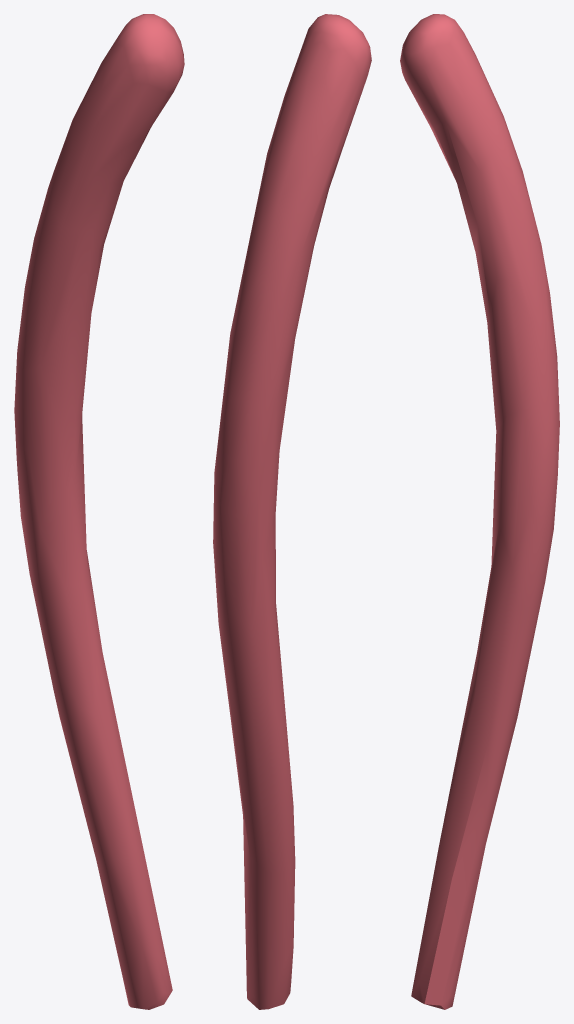
File: fma9451_fj2945.glb
3 renders of one model, left to right at view 1: azimuth 90°, elevation 25°; view 2: azimuth 150°, elevation 25°; view 3: azimuth 270°, elevation 25°, orthographic. The views are drawn at different scales.
Visible parts, largest first — view 1: FMA9451_FJ2945; view 2: FMA9451_FJ2945; view 3: FMA9451_FJ2945.
Part boxes in pixels (x1=…): FMA9451_FJ2945: x1=14, y1=14, x2=184, y2=1009; FMA9451_FJ2945: x1=213, y1=14, x2=371, y2=1009; FMA9451_FJ2945: x1=400, y1=14, x2=559, y2=1009.
Bounding box in the file's own units: 0.00751 × 0.0605 × 0.00915.
